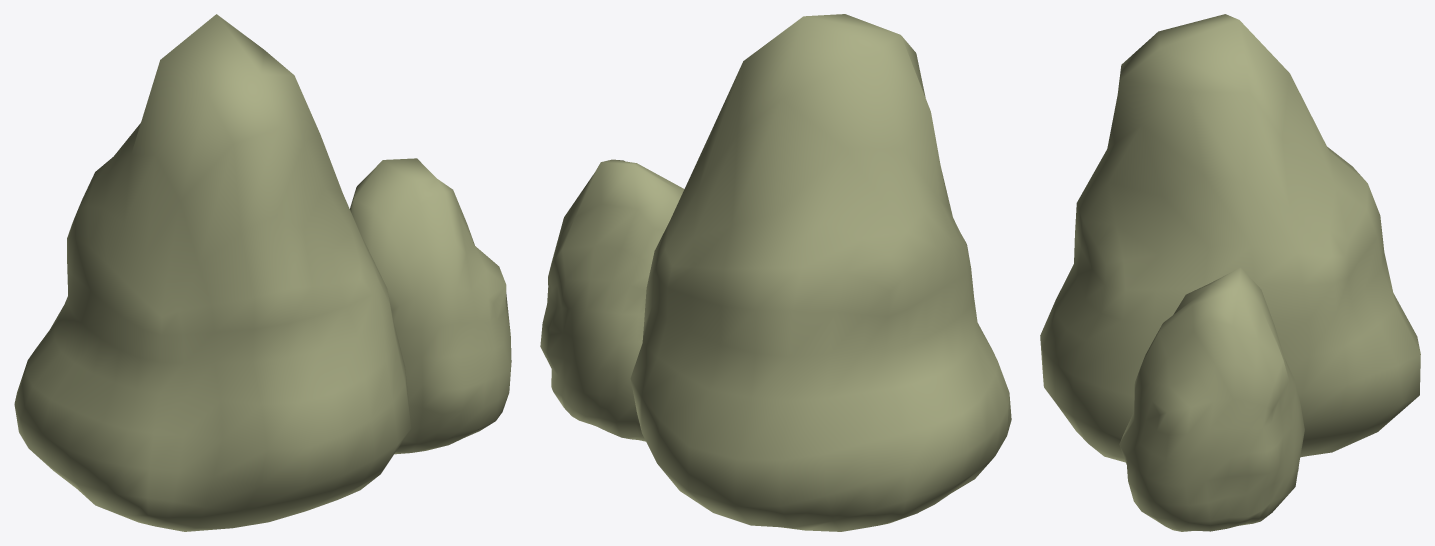
File: bushes 2.fbx
3 renders of one model, left to right at view 1: azimuth 30°, elevation 25°; view 2: azimuth 150°, elevation 25°; view 3: azimuth 270°, elevation 25°, orthographic. The views are drawn at different scales.
Visible parts, largest first — view 1: pCube4; view 2: pCube4; view 3: pCube4.
Boxes of the visible parts, x1=… form: pCube4: x1=14, y1=14, x2=511, y2=531; pCube4: x1=540, y1=14, x2=1011, y2=531; pCube4: x1=1040, y1=14, x2=1420, y2=531.
Bounding box in the file's own units: 148 × 120 × 147.
